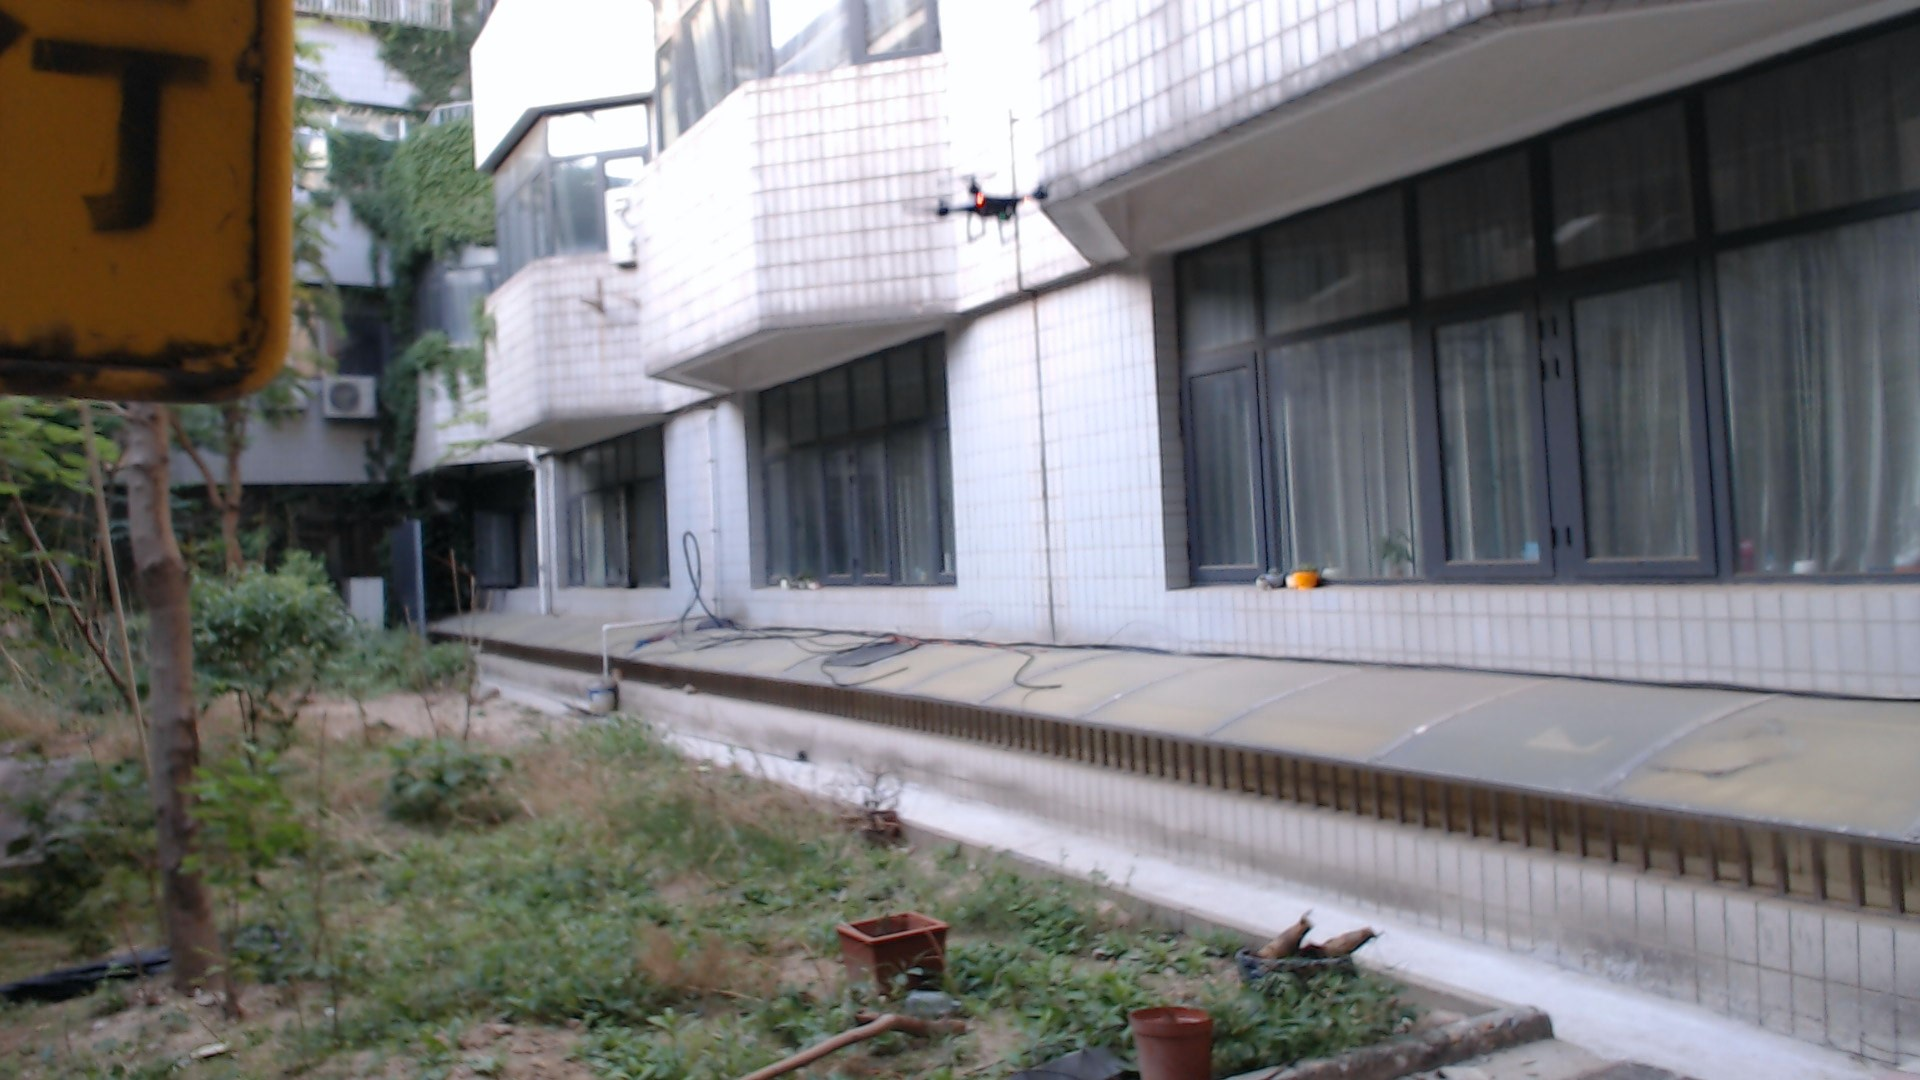drone: (884, 162, 1079, 266)
